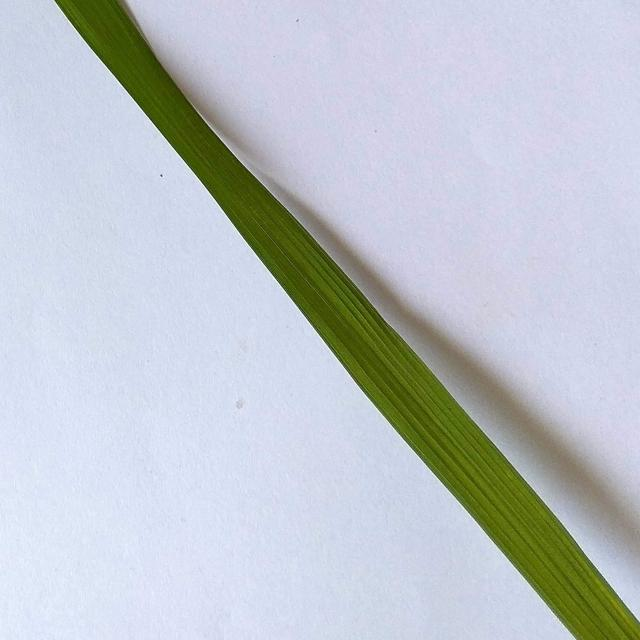Rice_Healthy: (55, 0, 640, 640)
